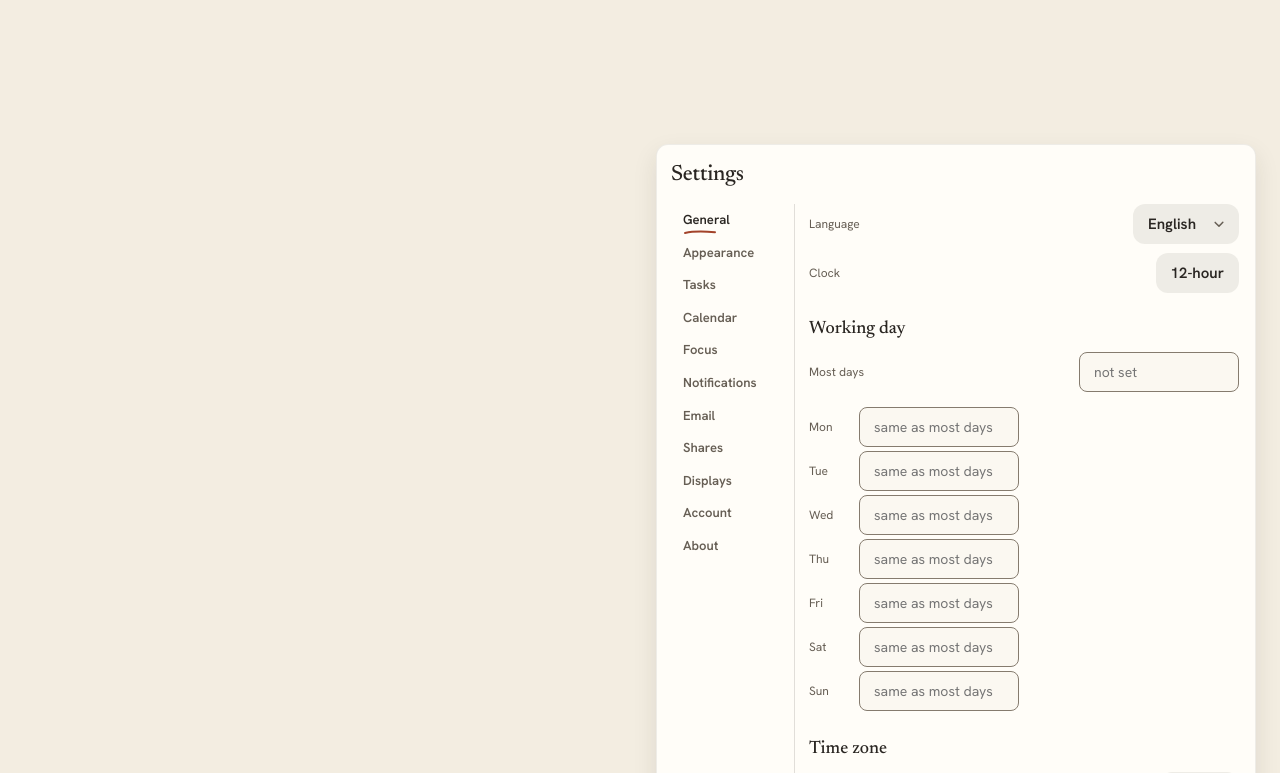
Scenario: <SettingsMenu> under Field notes › keeps the licence notice
This screenshot has width=1280, height=773.
(page scrolled)
Click the tab "About" at (728, 546), box left=671, top=530, right=786, bottom=562
(page scrolled)
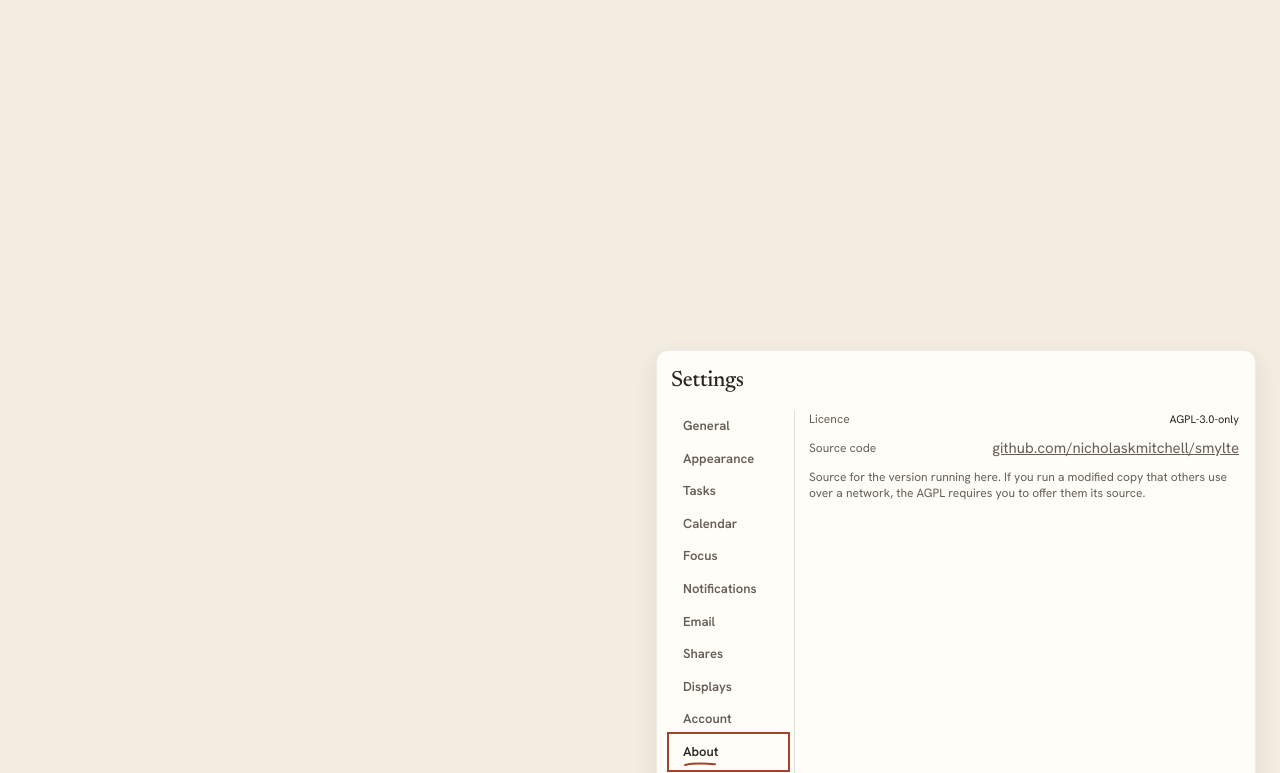
Result: the text "AGPL requires" is shown at left=809, top=468, right=1227, bottom=501
